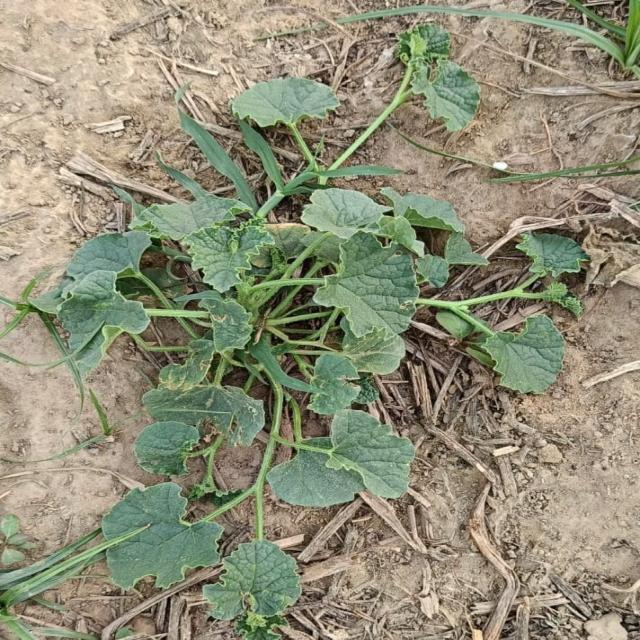plant: (14, 24, 582, 640)
